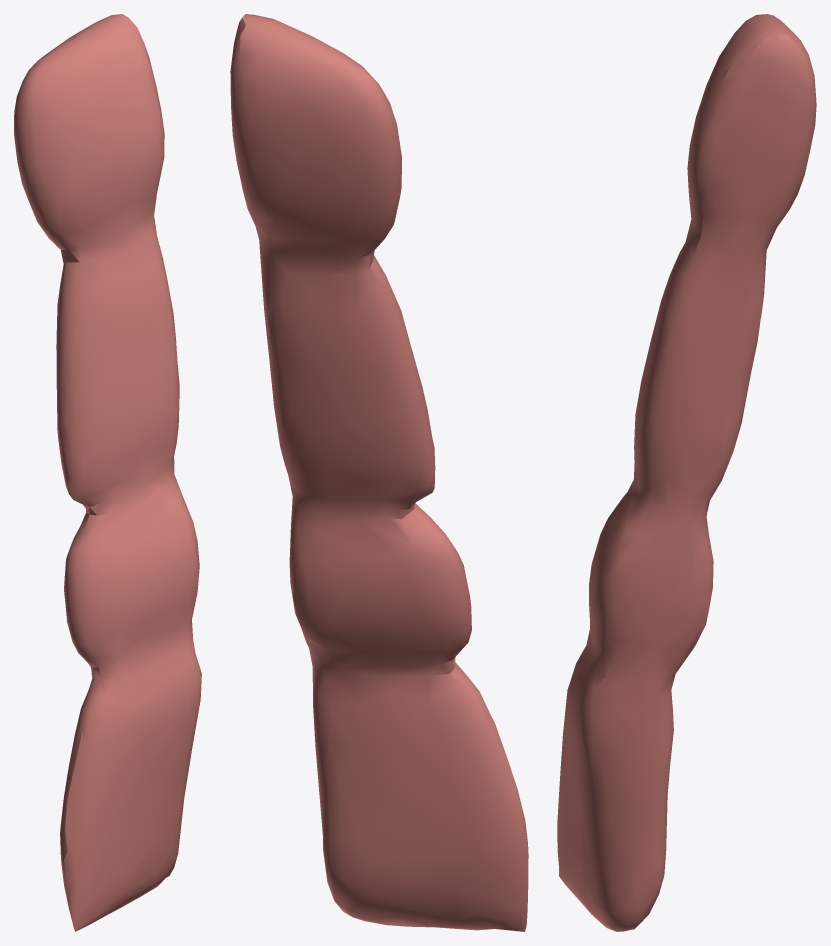
The model's file is fma48731-n_mm4013.glb.
3 renders of one model, left to right at view 1: azimuth 30°, elevation 25°; view 2: azimuth 150°, elevation 25°; view 3: azimuth 270°, elevation 25°, orthographic. The views are drawn at different scales.
Parts seen in each view (by area): view 1: FMA48731-N_MM4013; view 2: FMA48731-N_MM4013; view 3: FMA48731-N_MM4013.
Boxes of the visible parts, x1,y1,x2,y2 form: FMA48731-N_MM4013: [14, 14, 201, 931]; FMA48731-N_MM4013: [230, 14, 528, 931]; FMA48731-N_MM4013: [557, 14, 816, 931].
Size of the model in its own units: 0.0191 by 0.0915 by 0.0234.
